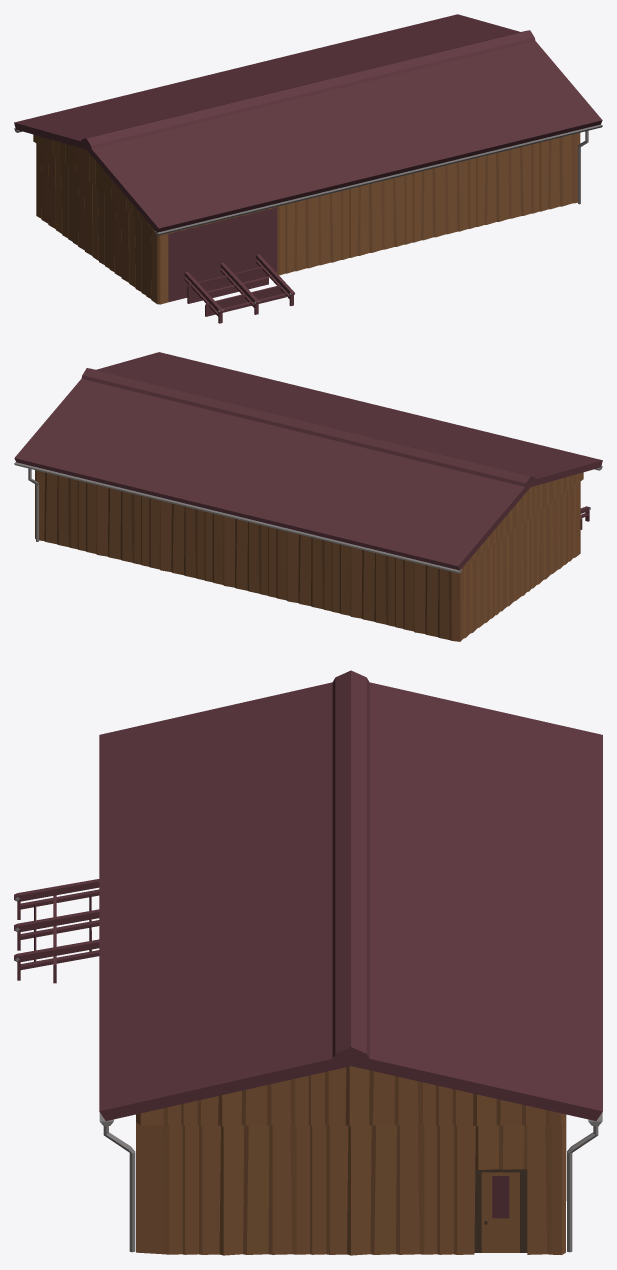
File: SM_Building_Forester_House.fbx
The picture shows the model from 3 angles, top to bottom: view 1: azimuth 30°, elevation 25°; view 2: azimuth 150°, elevation 25°; view 3: azimuth 270°, elevation 25°; orthographic projection. The views are drawn at different scales.
Visible parts, largest first — view 1: SM_Building_Forester_House; view 2: SM_Building_Forester_House; view 3: SM_Building_Forester_House.
Boxes of the visible parts, box(x1,y1,x2,y2) form: SM_Building_Forester_House: box(14, 14, 602, 323); SM_Building_Forester_House: box(14, 352, 602, 641); SM_Building_Forester_House: box(14, 670, 602, 1255).
Bounding box in the file's own units: 21 × 5.6 × 13.87.
